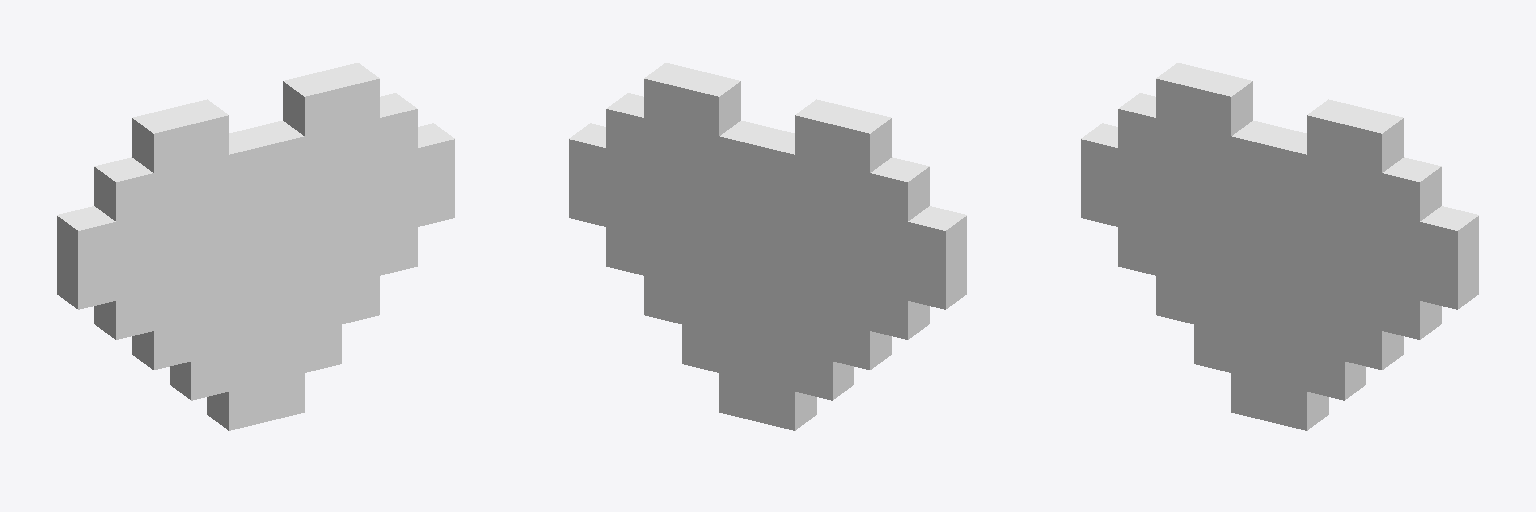
File: Corazon.obj
3 views of the same model, side by side, from view 1: azimuth 30°, elevation 25°; view 2: azimuth 150°, elevation 25°; view 3: azimuth 330°, elevation 25° (orthographic).
Visible parts, largest first — view 1: object 1; view 2: object 1; view 3: object 1.
Boxes of the visible parts, x1=… form: object 1: x1=57, y1=63, x2=454, y2=430; object 1: x1=569, y1=63, x2=966, y2=430; object 1: x1=1081, y1=63, x2=1478, y2=430.
Size of the model in its own units: 1 by 0.8 by 0.1.